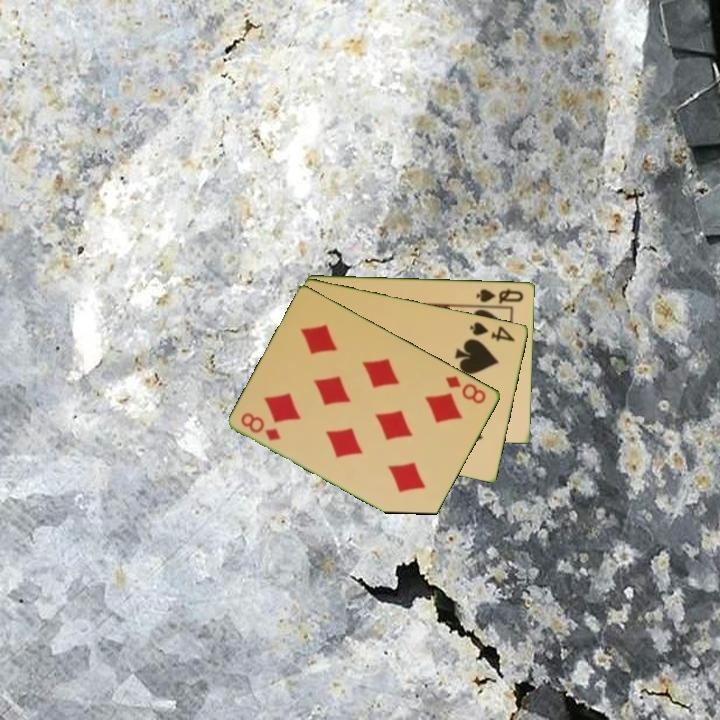4s: (466, 318, 518, 344)
8d: (442, 372, 489, 407), (238, 409, 285, 443)
Qs: (473, 285, 527, 306)
